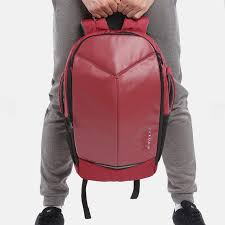backpack: (57, 11, 176, 218)
